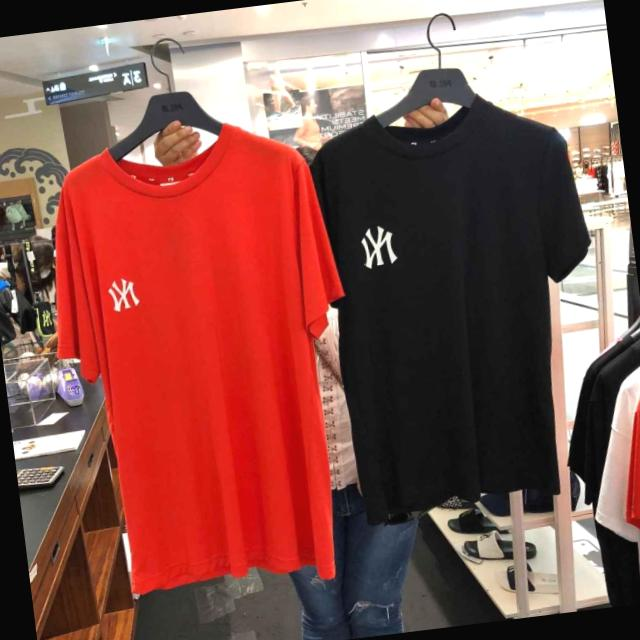Tshirt: (42, 111, 360, 578), (298, 84, 616, 514)
